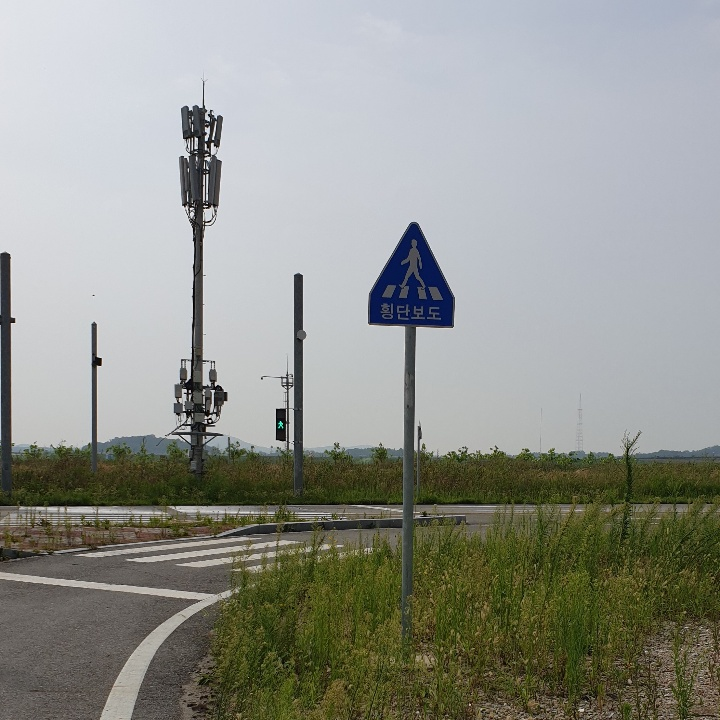cross: (391, 230, 432, 296)
